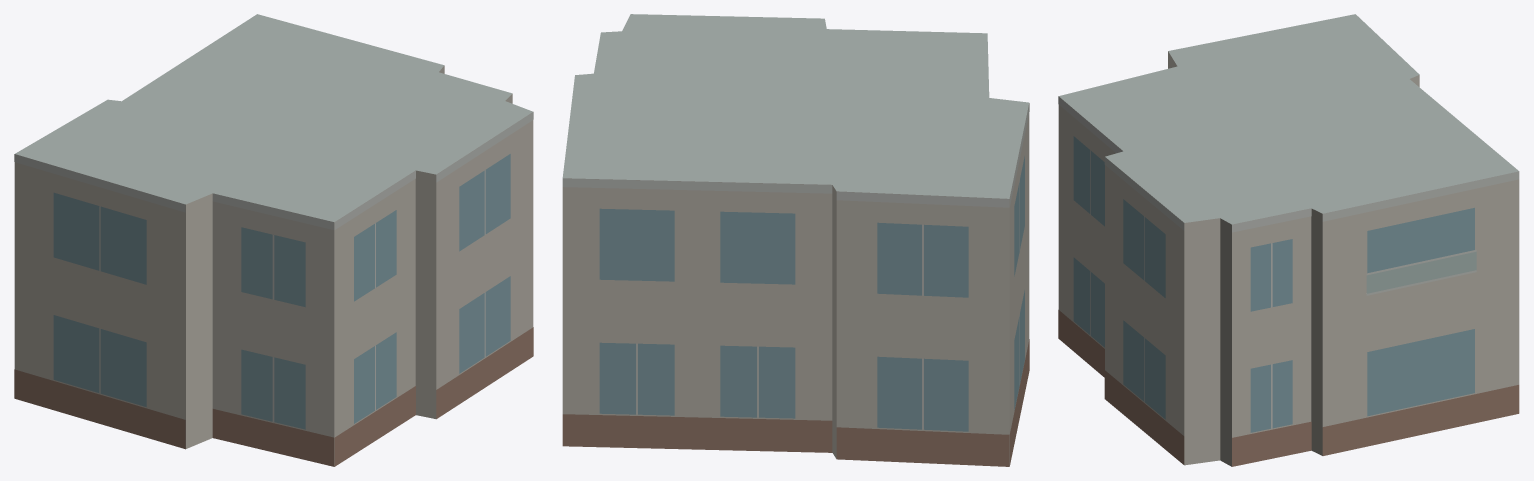
The model's file is survey-upis-32613317.glb.
The picture shows the model from 3 angles, left to right: view 1: azimuth 30°, elevation 25°; view 2: azimuth 150°, elevation 25°; view 3: azimuth 270°, elevation 25°; orthographic projection. The views are drawn at different scales.
Visible parts, largest first — view 1: survey-upis-32613317.tmp; view 2: survey-upis-32613317.tmp; view 3: survey-upis-32613317.tmp.
Boxes of the visible parts, bbox=[...] form: survey-upis-32613317.tmp: bbox=[14, 14, 533, 466]; survey-upis-32613317.tmp: bbox=[562, 14, 1029, 466]; survey-upis-32613317.tmp: bbox=[1058, 14, 1519, 466].
Size of the model in its own units: 13.7 by 7.35 by 12.68.
